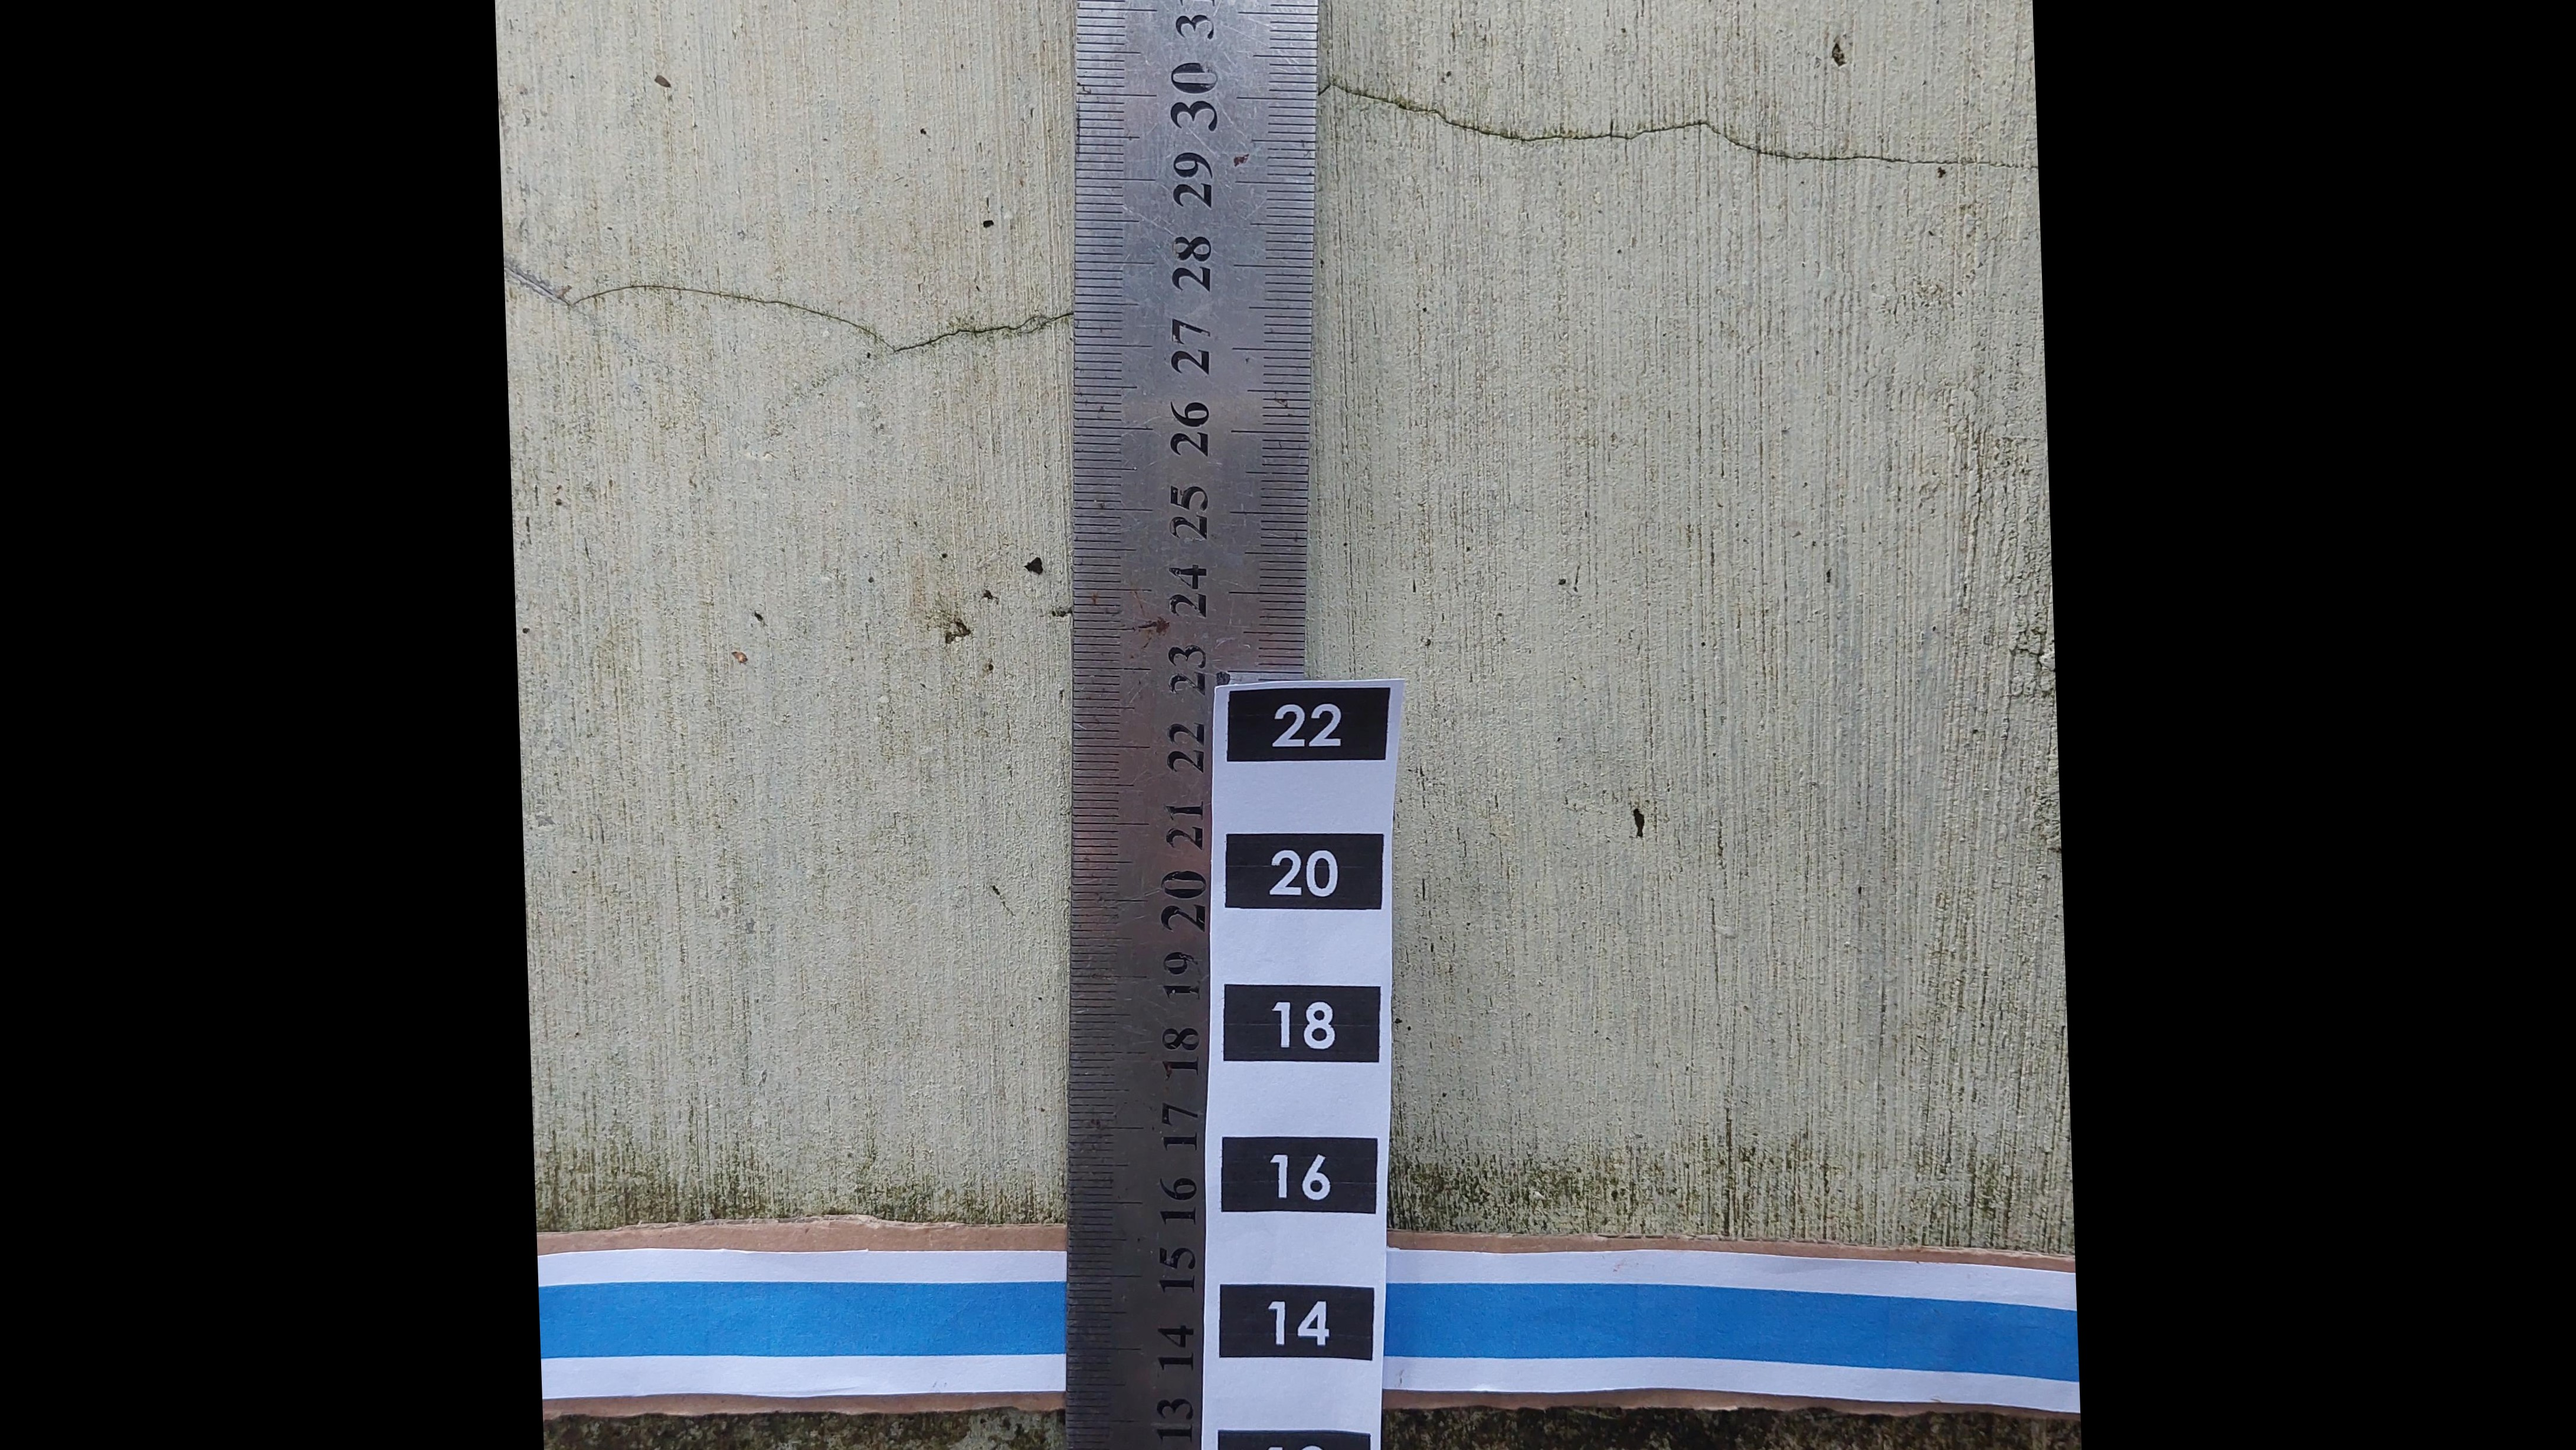kotak_2x1: (1226, 833, 1385, 911), (1219, 983, 1378, 1061), (1230, 688, 1387, 764), (1217, 1137, 1373, 1213), (1219, 1284, 1373, 1358)
